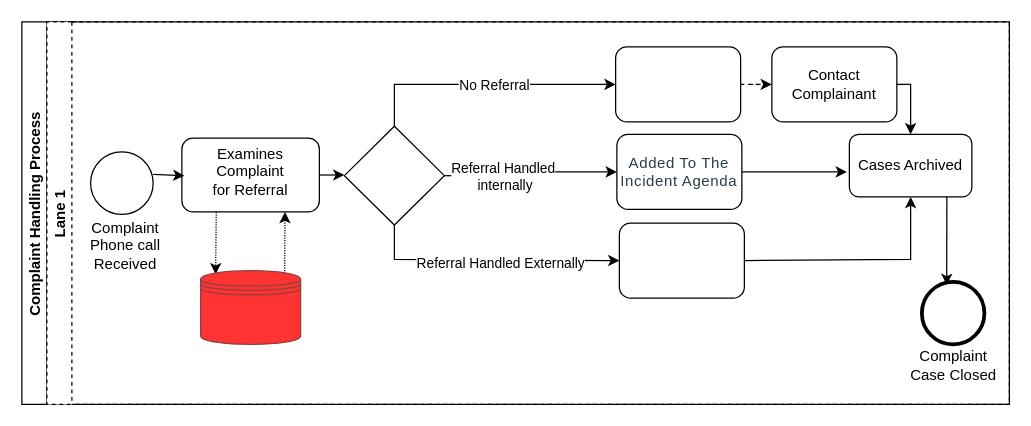
This 1031x426 diagram has some shape labels left out. The centre of each missing label's shape, as x and y in pixels:
"Complaint Database" goes at [250,306].
"Conduct Complaint Analysis" goes at [677,84].
"Telephone Call To External Party" goes at [681,260].
